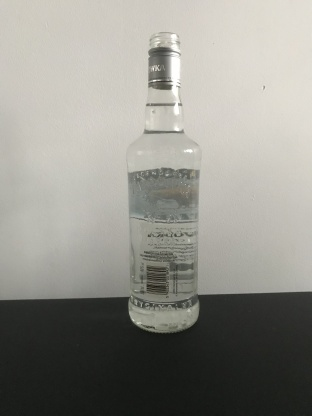nakretka: (146, 29, 183, 90)
